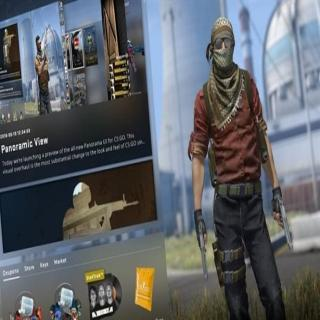T-Body: (196, 16, 282, 319)
T-Head: (206, 13, 237, 78)
